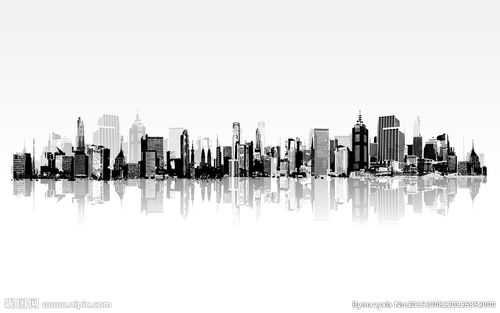buildings: (95, 110, 125, 179), (374, 115, 406, 170)
